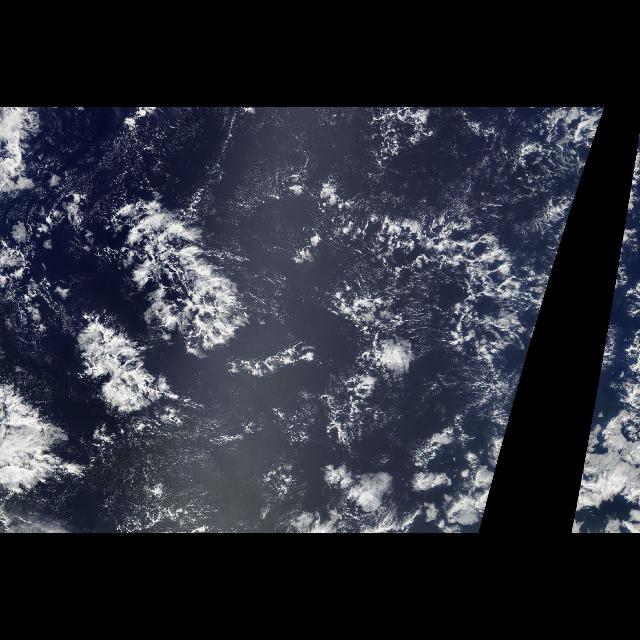Fish: (46, 198, 264, 420)
Gravel: (310, 184, 528, 346)
